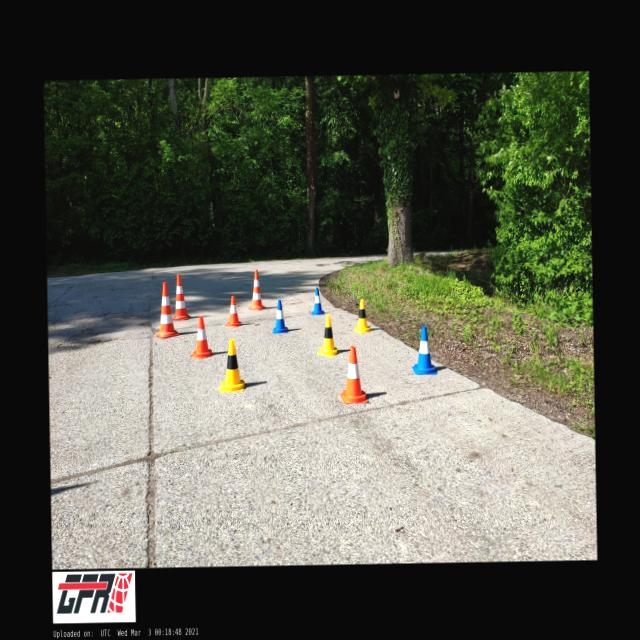blue_cone: (412, 326, 436, 374), (272, 300, 288, 332), (310, 288, 324, 314)
large_orange_cone: (155, 282, 179, 338), (172, 274, 190, 320), (248, 268, 265, 310)
orange_cone: (340, 346, 368, 402), (190, 316, 214, 358), (224, 295, 243, 326)
yellow_cone: (219, 338, 245, 391), (316, 314, 339, 356), (352, 298, 372, 332)
